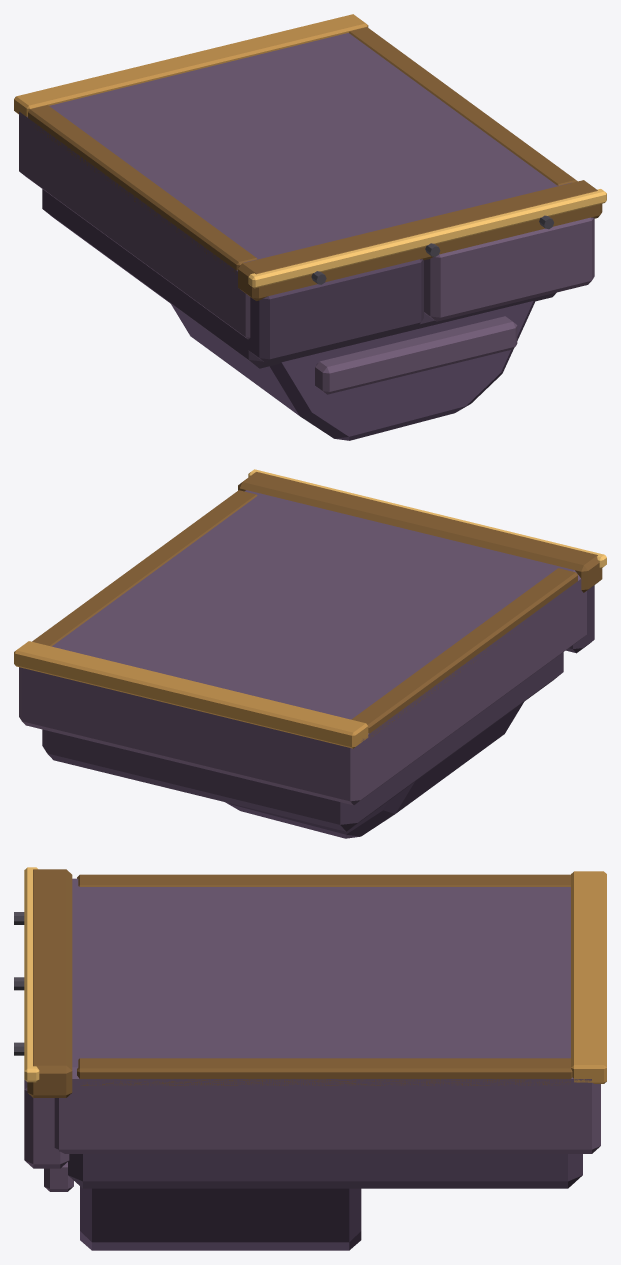
The model's file is SM_Vault_RetakeDeck_06.fbx.
3 renders of one model, top to bottom at view 1: azimuth 30°, elevation 25°; view 2: azimuth 150°, elevation 25°; view 3: azimuth 270°, elevation 25°, orthographic. The views are drawn at different scales.
Visible parts, largest first — view 1: SM_Vault_RetakeDeck_06; view 2: SM_Vault_RetakeDeck_06; view 3: SM_Vault_RetakeDeck_06.
Boxes of the visible parts, x1,y1,x2,y2 form: SM_Vault_RetakeDeck_06: (14,14,606,440); SM_Vault_RetakeDeck_06: (14,469,606,838); SM_Vault_RetakeDeck_06: (14,867,606,1250).
Bounding box in the file's own units: 161 × 198 × 92.93.
